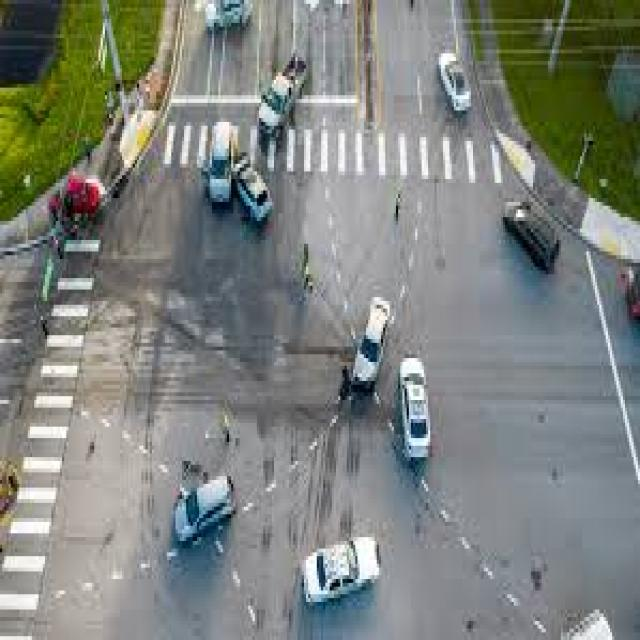accident: (190, 110, 272, 240)
